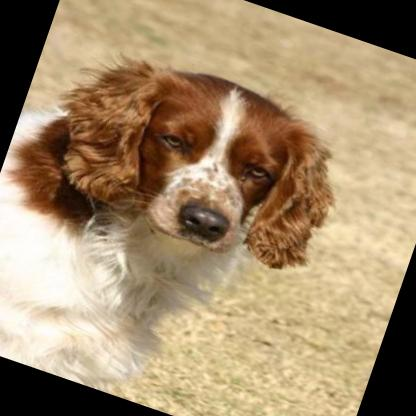Welsh_springer_spaniel: (0, 17, 364, 416)
